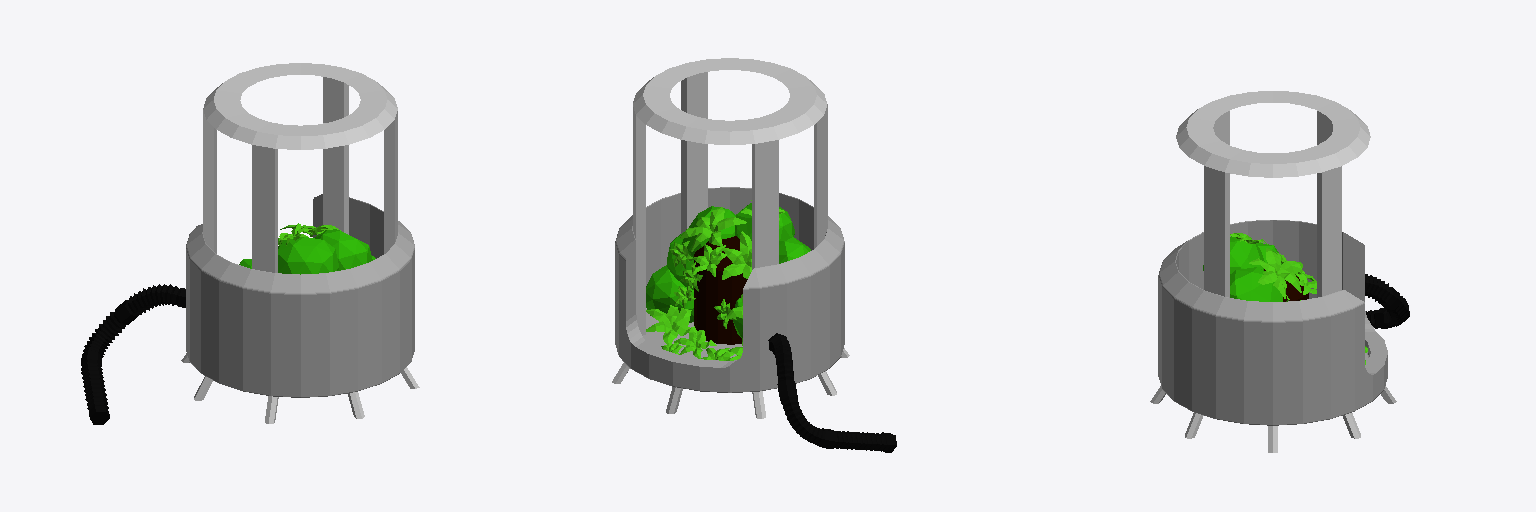
File: Sauerstofftank.obj
The picture shows the model from 3 angles: view 1: azimuth 30°, elevation 25°; view 2: azimuth 150°, elevation 25°; view 3: azimuth 270°, elevation 25°; orthographic projection.
Parts seen in each view (by area): view 1: H2O_Circle; view 2: H2O_Circle; view 3: H2O_Circle.
Part boxes in pixels (x1,y1,x2,y2): H2O_Circle: (81, 63, 419, 424); H2O_Circle: (612, 58, 896, 452); H2O_Circle: (1150, 91, 1409, 452).
Size of the model in its own units: 0.3712 by 0.357 by 0.2827.